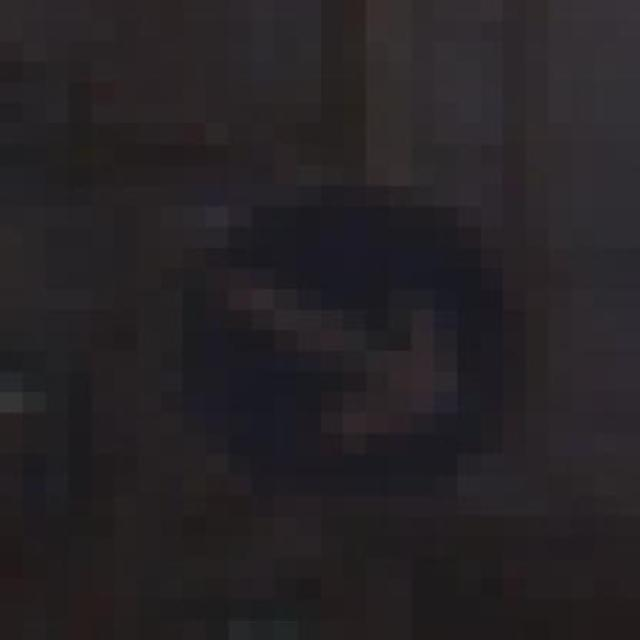Keep-Right: (137, 144, 526, 516)
